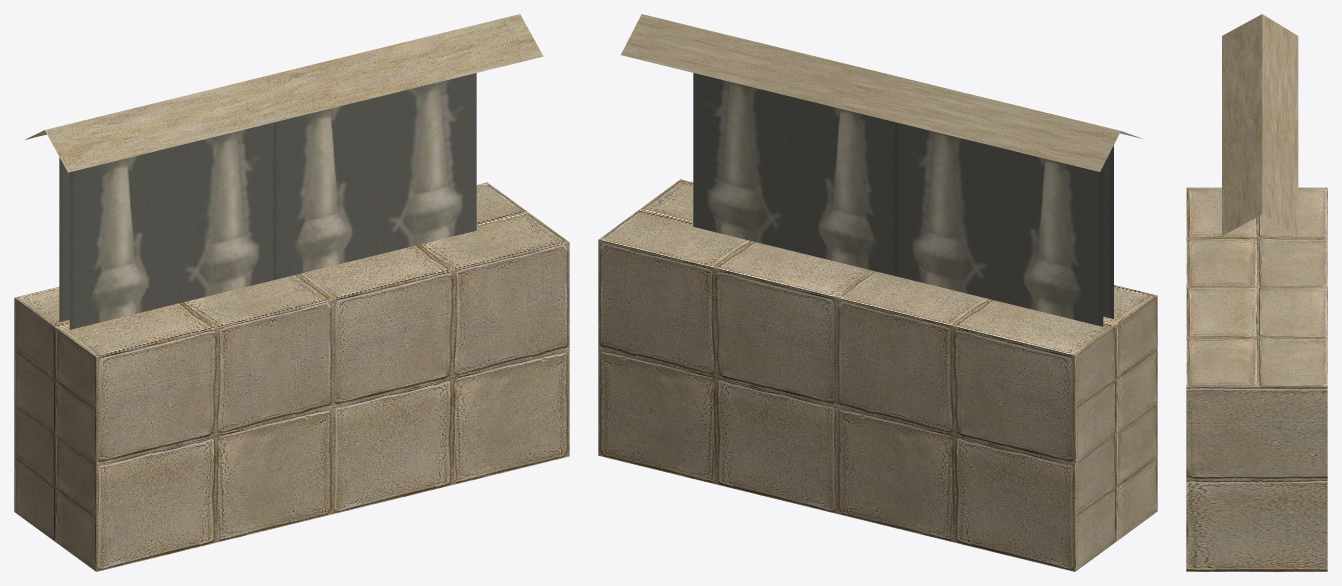
Rendered from thm_nboo_imprv_pillar_wall_small_s01_l2.fbx.
The picture shows the model from 3 angles, left to right: view 1: azimuth 30°, elevation 25°; view 2: azimuth 150°, elevation 25°; view 3: azimuth 270°, elevation 25°; orthographic projection. The views are drawn at different scales.
Parts seen in each view (by area): view 1: mesh_node; view 2: mesh_node; view 3: mesh_node.
Part boxes in pixels (<box>): mesh_node: <box>14,14,569,571</box>; mesh_node: <box>598,14,1157,571</box>; mesh_node: <box>1186,14,1327,571</box>.
Size of the model in its own units: 2.34 by 1.92 by 0.6912.
